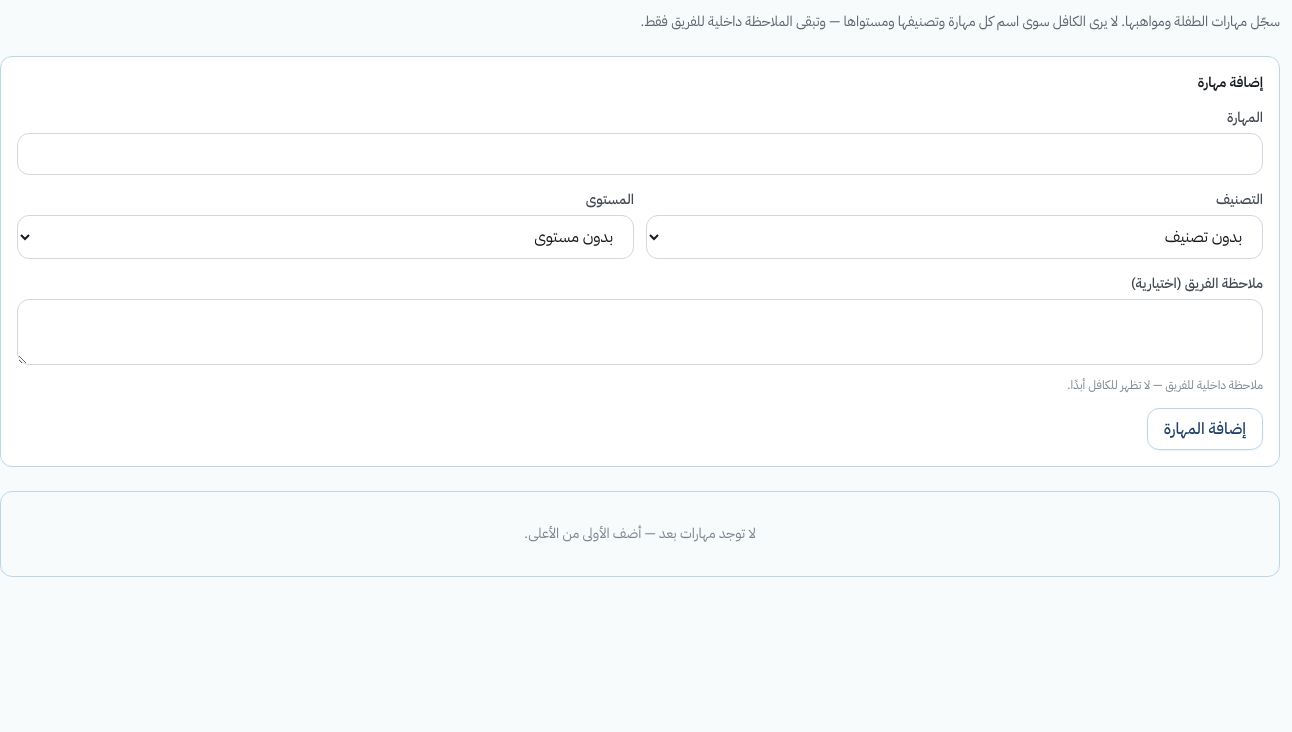
Test: OrphanSkillsManager › rejects an empty name client-side without posting
The image size is (1292, 732).
Expected: the text "لا توجد مهارات بعد — أضف الأولى من الأعلى." is shown, [0,491,1280,577]
Click the button "إضافة المهارة" at (1205, 429), box [1147,408,1263,450]
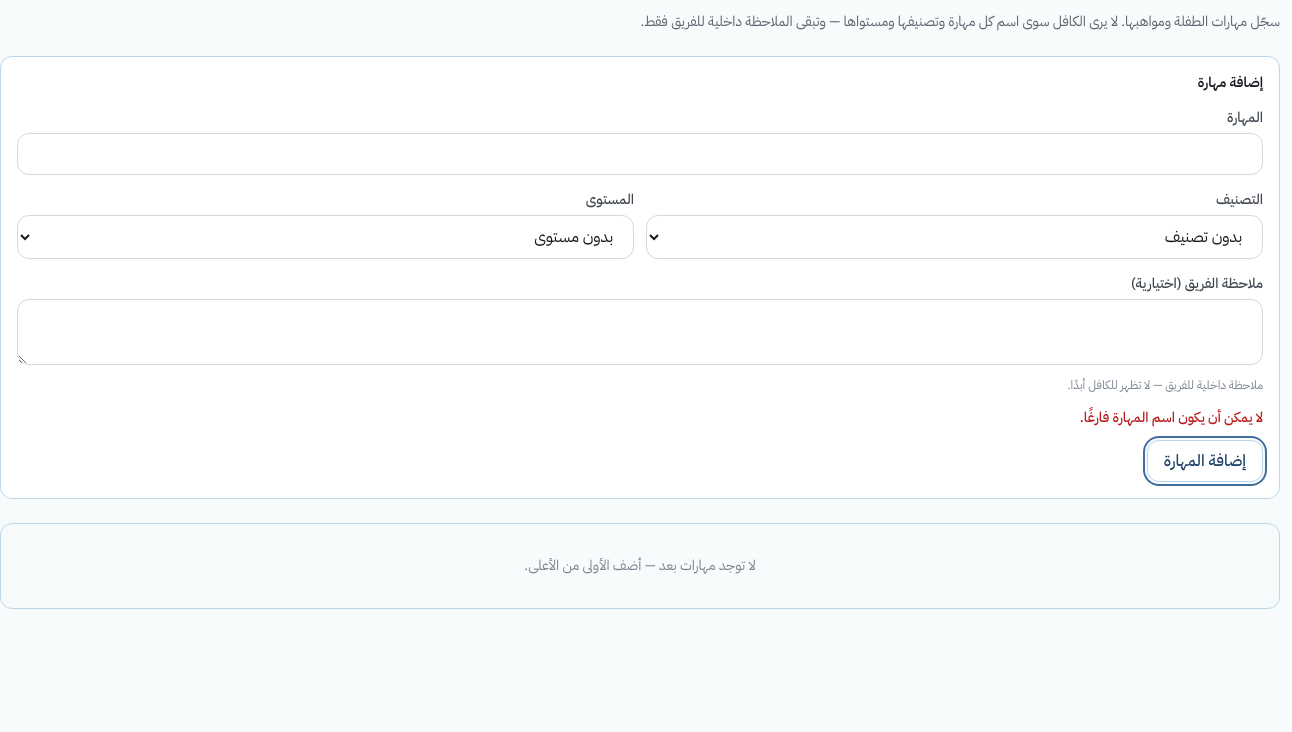
Result: the text "لا يمكن أن يكون اسم المهارة فارغًا." is shown at [1080,407,1263,428]
